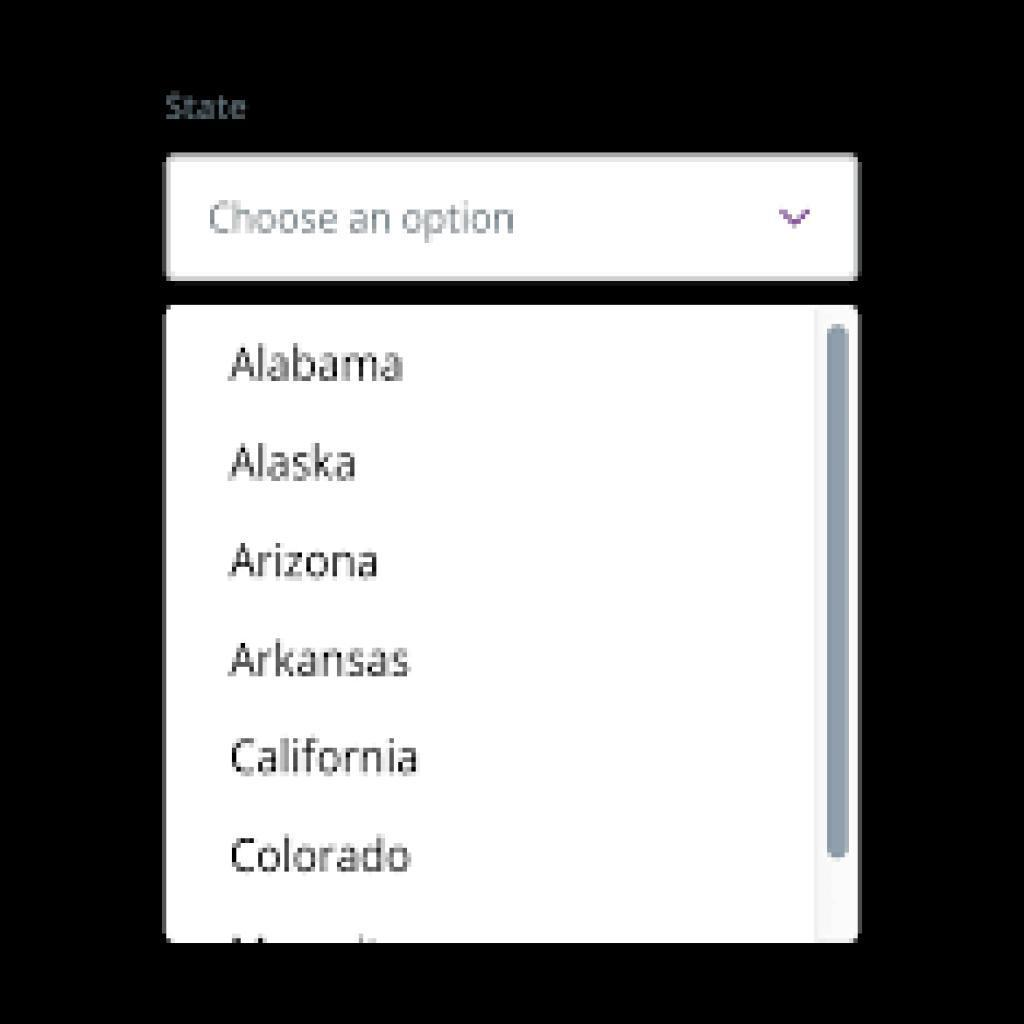dropdown: (171, 158, 856, 282)
